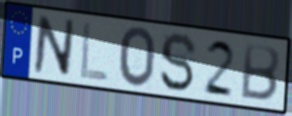2: (200, 38, 239, 99)
B: (238, 41, 282, 104)
L: (78, 20, 110, 83)
N: (31, 13, 77, 79)
O: (118, 25, 158, 90)
S: (158, 31, 199, 95)
